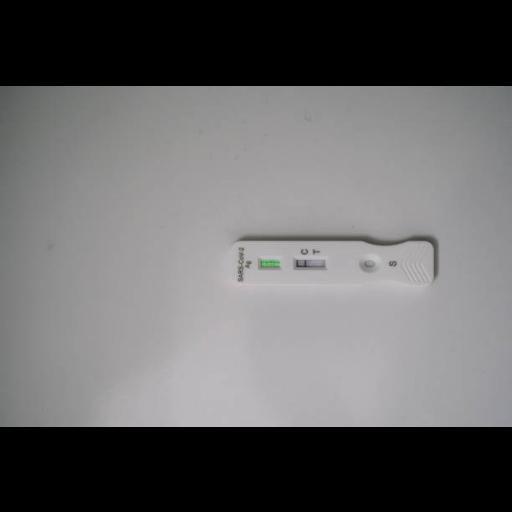Neg: (230, 238, 436, 284)
